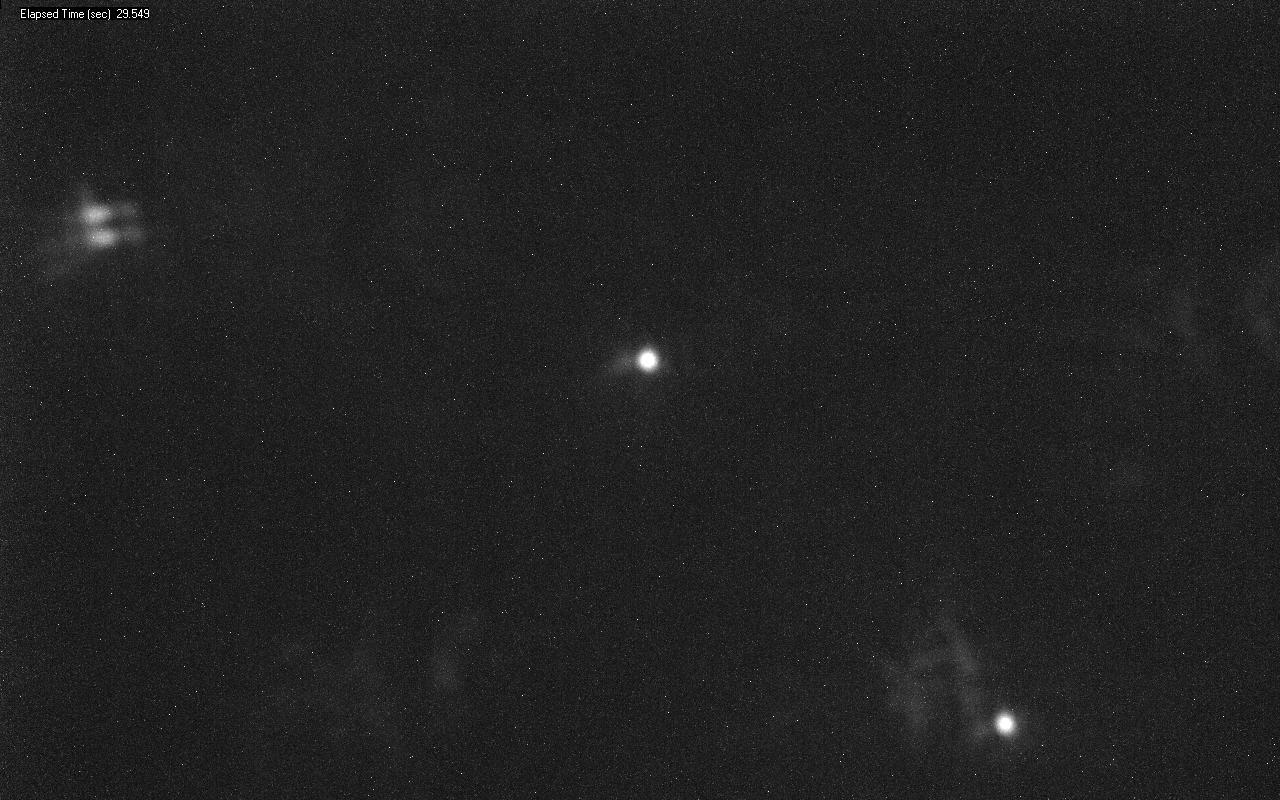Bead: (636, 348, 659, 372), (996, 713, 1015, 735)
